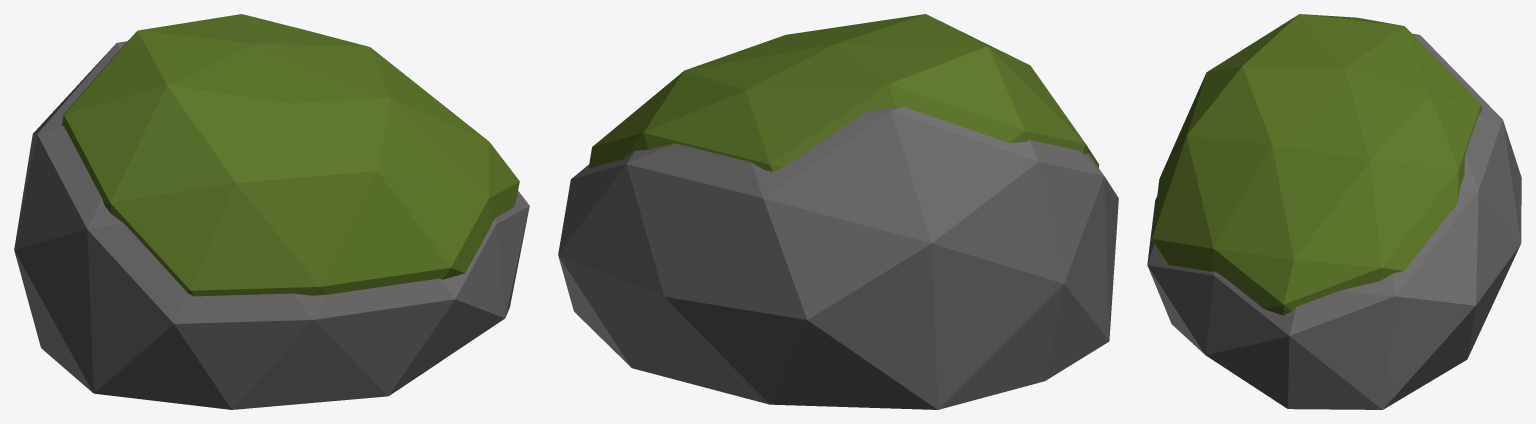
Rendered from MossyRock_2.fbx.
3 views of the same model, side by side, from view 1: azimuth 30°, elevation 25°; view 2: azimuth 150°, elevation 25°; view 3: azimuth 270°, elevation 25° (orthographic). The views are drawn at different scales.
Visible parts, largest first — view 1: pSolid41; view 2: pSolid41; view 3: pSolid41.
Boxes of the visible parts, x1,y1,x2,y2 form: pSolid41: (14, 14, 529, 409); pSolid41: (558, 14, 1118, 409); pSolid41: (1147, 14, 1521, 409).
Size of the model in its own units: 2.59 by 1.59 by 2.1.
